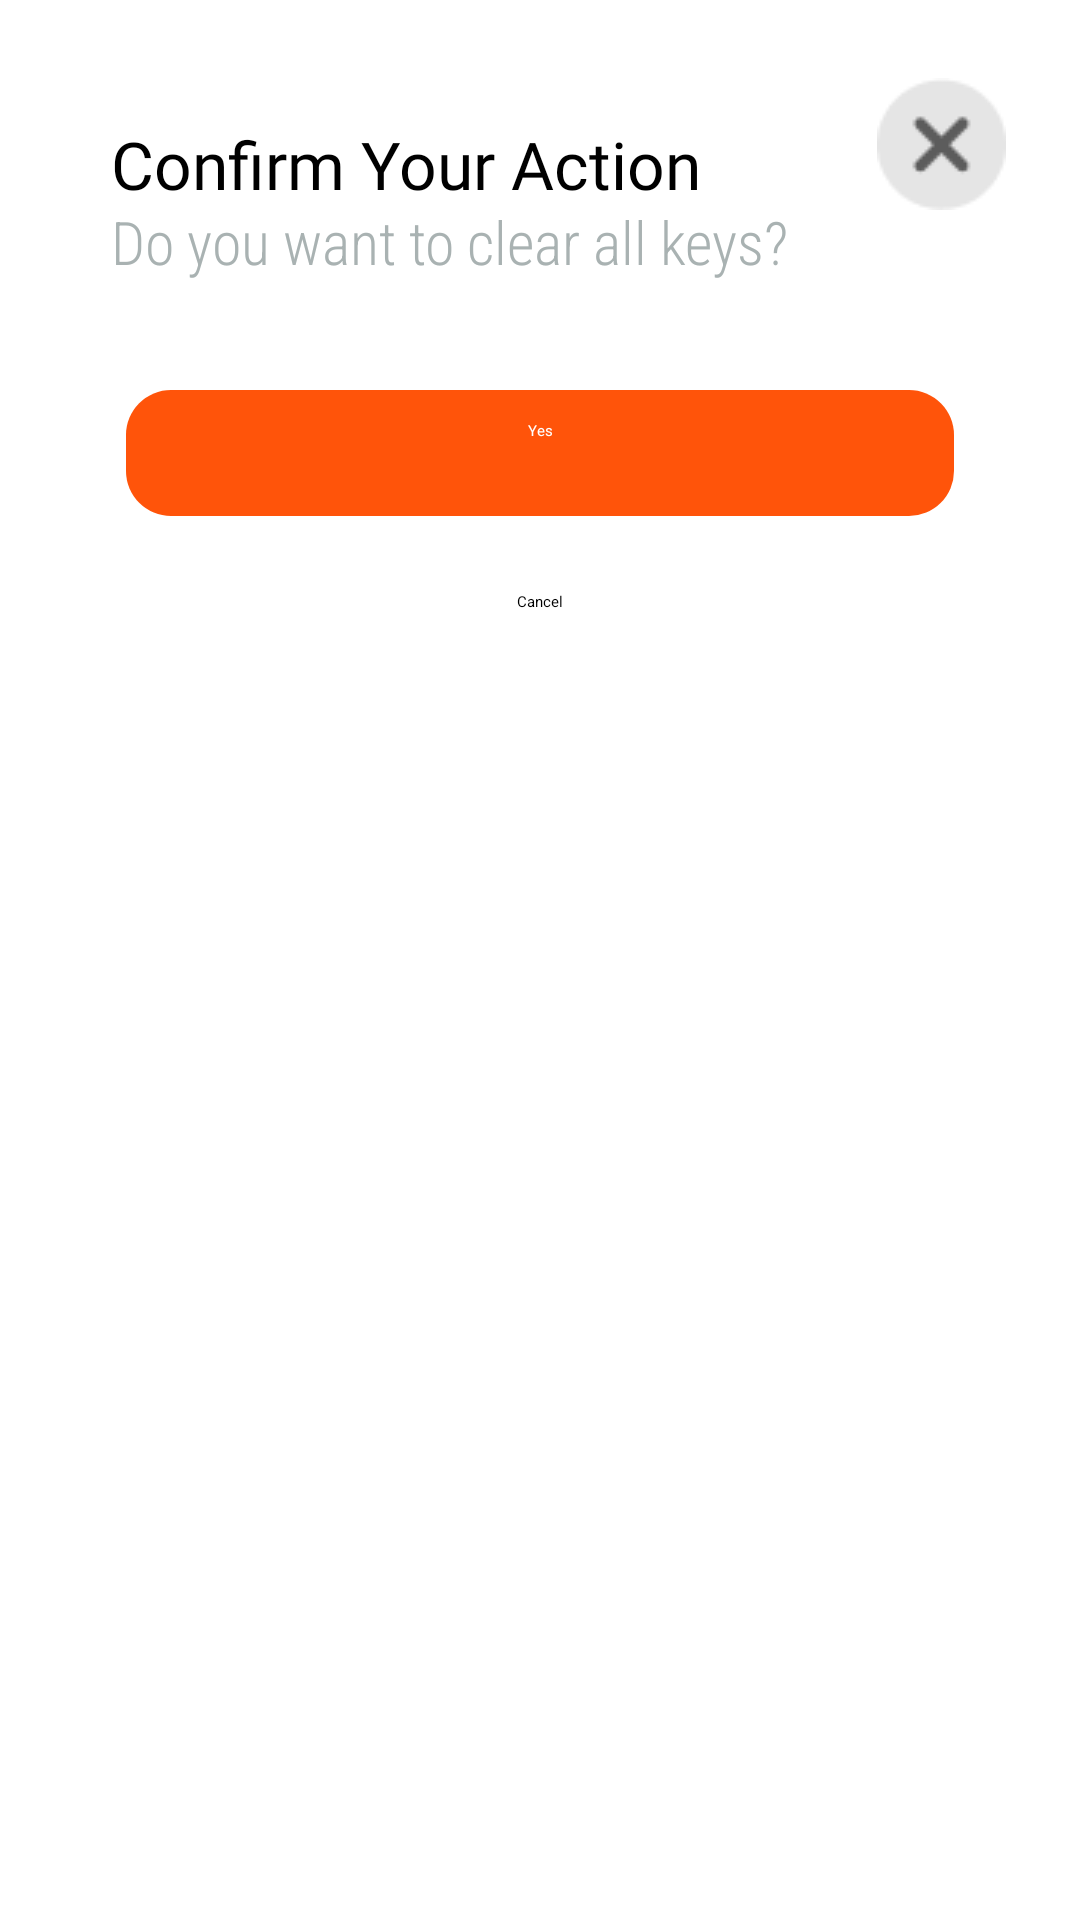

Where to tap for icons on this 1080 × 1920 app screen, as [x,y]:
close: [941,144]
